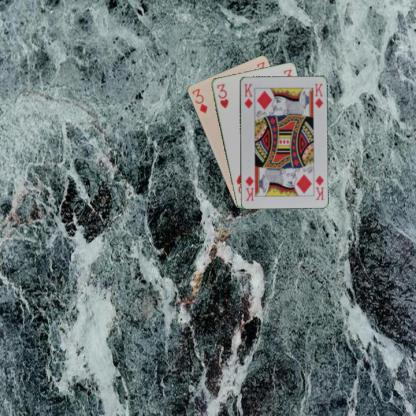3d: (189, 86, 209, 115)
3h: (214, 81, 229, 109)
Kd: (242, 81, 254, 109), (312, 173, 324, 201)
